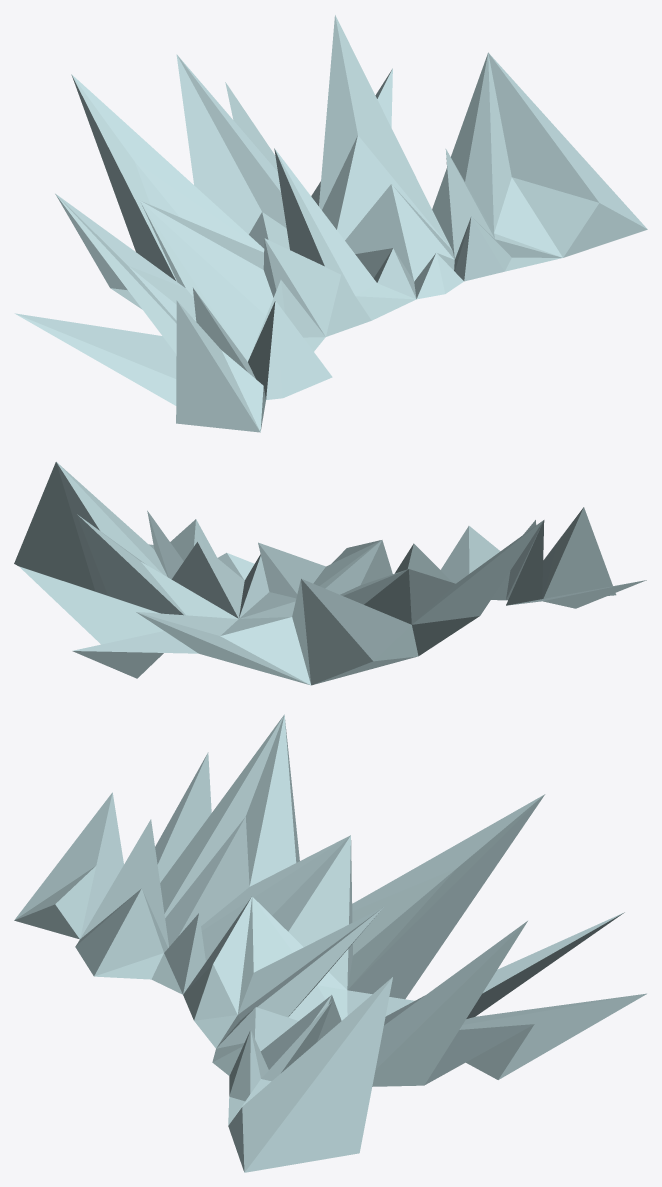
File: spikesBig02.fbx
The picture shows the model from 3 angles, top to bottom: view 1: azimuth 30°, elevation 25°; view 2: azimuth 150°, elevation 25°; view 3: azimuth 270°, elevation 25°; orthographic projection. The views are drawn at different scales.
Parts seen in each view (by area): view 1: polySurface9; view 2: polySurface9; view 3: polySurface9.
Boxes of the visible parts, x1,y1,x2,y2 form: polySurface9: (14, 15, 647, 432); polySurface9: (14, 462, 646, 685); polySurface9: (14, 714, 646, 1172).
Size of the model in its own units: 0.5822 by 0.1672 by 0.4731.
